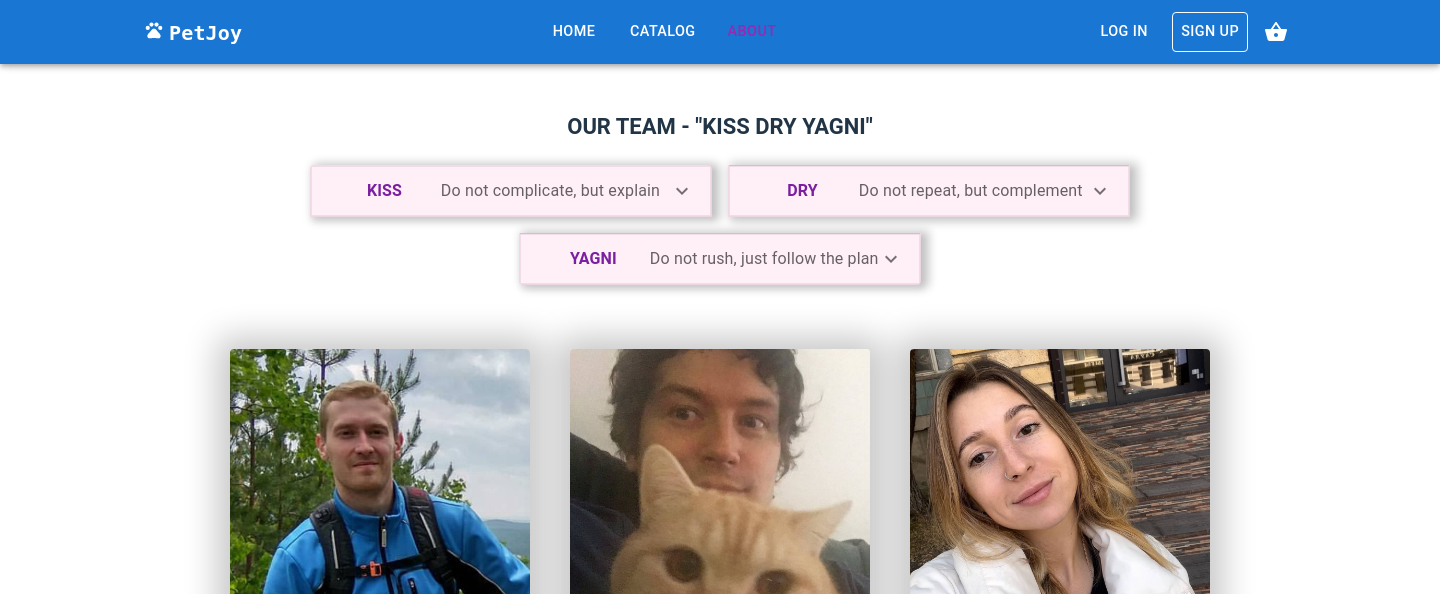
it: Demonstrating  navigation › from about to catalog
Check: the heading "OUR TEAM - \"KISS DRY YAGNI\"" is shown, box 567,114 -> 873,139
Click the link "Home" at (574, 32), box 553,23 -> 595,40
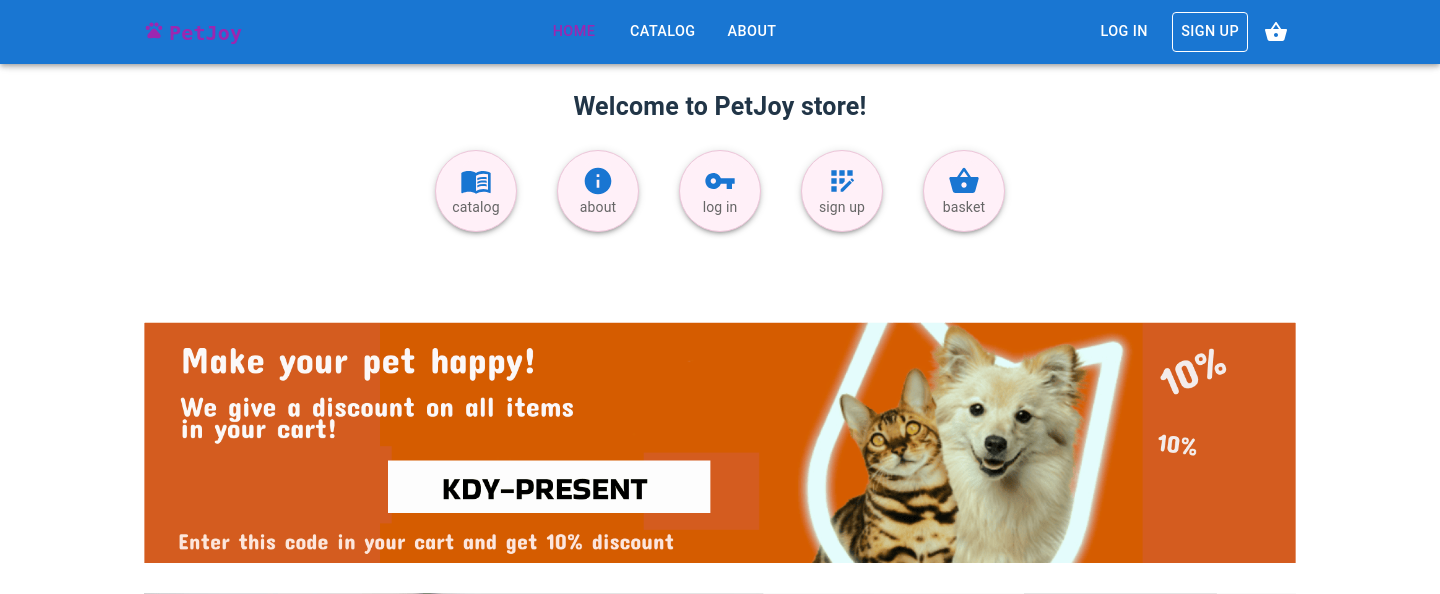
Check: the text "Welcome to PetJoy store!" is shown, box 573,92 -> 867,121
